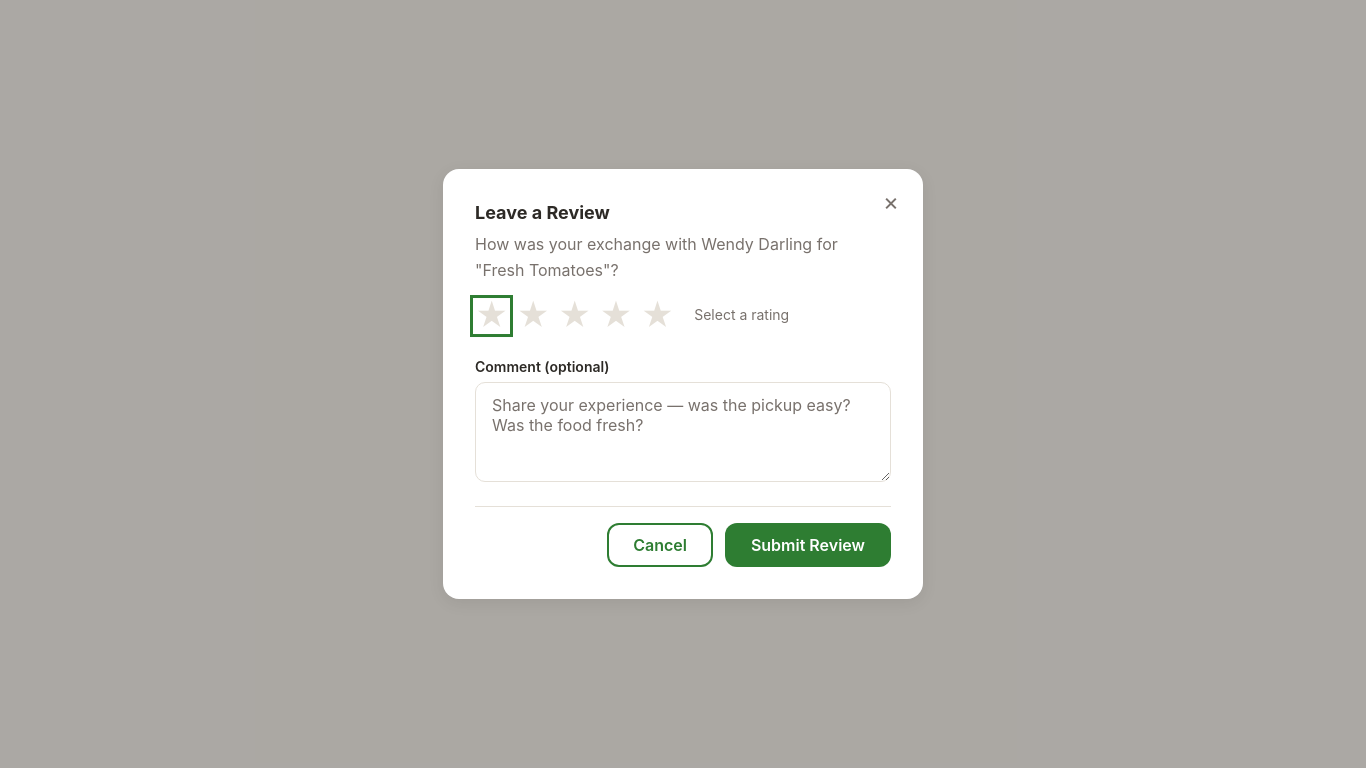
it: ReviewModal › must show an error when submitting without selecting a rating
Click the button "Submit Review": (808, 545) [725,523,891,567]
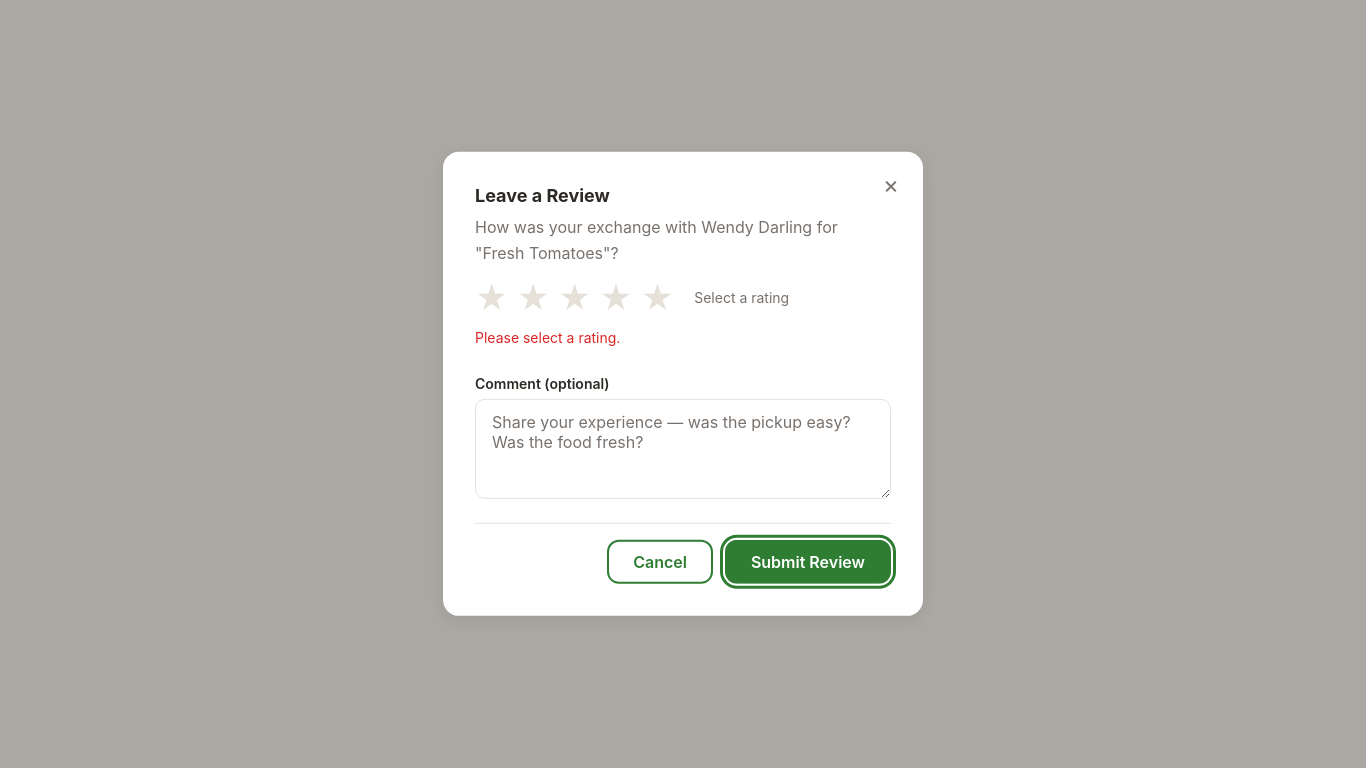
Check: the message reads "Please select a rating.", box [475,328,620,345]
